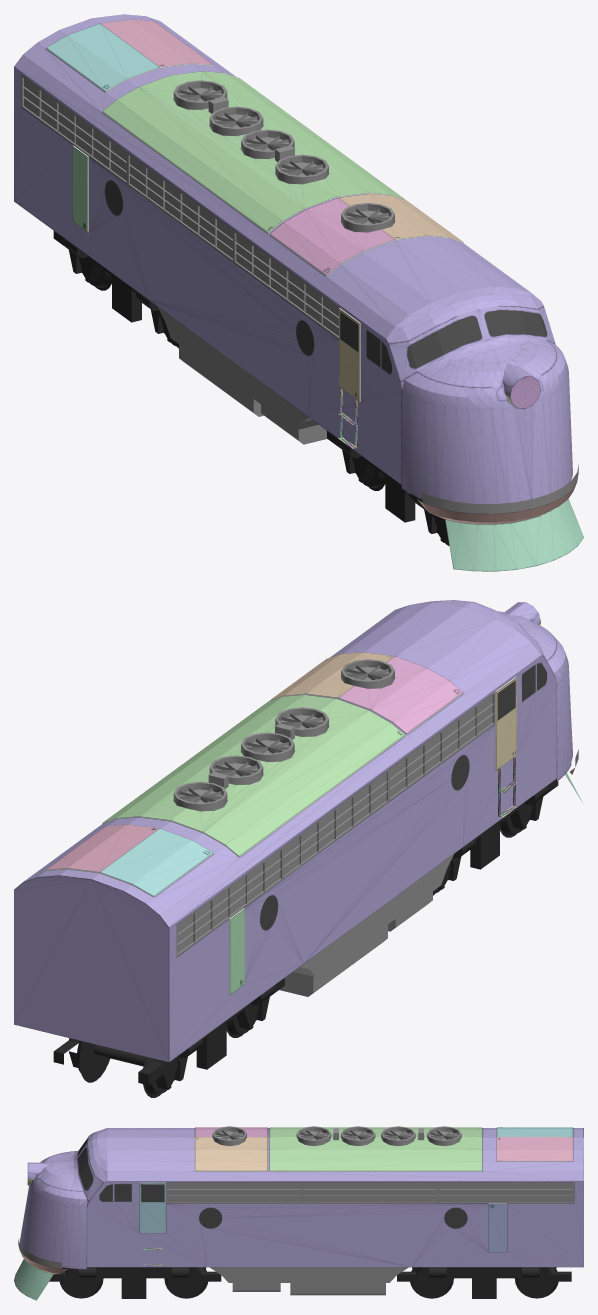
3 renders of one model, top to bottom at view 1: azimuth 30°, elevation 25°; view 2: azimuth 150°, elevation 25°; view 3: azimuth 270°, elevation 25°, orthographic. The views are drawn at different scales.
Visible parts, largest first — view 1: instance_5, instance_1, instance_4, instance_2, instance_3, instance_9, instance_7, instance_6, instance_20, instance_17, instance_10, instance_8 (+2 smaller); view 2: instance_5, instance_1, instance_2, instance_4, instance_3, instance_17, instance_6, instance_10, instance_8, instance_18, instance_19, instance_15 (+3 smaller); view 3: instance_1, instance_5, instance_2, instance_3, instance_4, instance_19, instance_18, instance_20, instance_17, instance_15 (×2), instance_14 (×2), instance_7 (+4 smaller).
Boxes of the visible parts, x1,y1,x2,y2 form: instance_5: (14,18,535,571); instance_1: (92,14,583,565); instance_4: (21,75,127,184); instance_2: (127,153,233,262); instance_3: (233,230,339,339); instance_9: (209,106,263,135); instance_7: (275,154,328,184); instance_6: (341,203,394,232); instance_20: (327,431,395,515); instance_17: (53,231,121,314); instance_10: (173,80,227,109); instance_8: (241,129,294,158); instance_5: (91,602,582,1062); instance_1: (14,600,525,1043); instance_2: (282,769,388,879); instance_4: (176,847,282,956); instance_3: (389,692,494,801); instance_17: (138,1028,216,1089); instance_6: (341,659,394,688); instance_10: (173,781,227,811); instance_8: (241,732,294,761); instance_18: (217,978,284,1062); instance_19: (490,779,558,861); instance_15: (76,1041,126,1082); instance_1: (14,1130,583,1300); instance_5: (14,1127,583,1279); instance_2: (302,1182,438,1203); instance_3: (166,1182,302,1203); instance_4: (438,1182,574,1203); instance_19: (484,1267,571,1298); instance_18: (134,1267,221,1298); instance_20: (397,1267,484,1298); instance_17: (49,1267,133,1298); instance_15 (×2): (410,1267,558,1298); instance_14 (×2): (59,1267,207,1298); instance_7: (296,1126,331,1145).
Size of the model in its own units: 3.2 by 4.55 by 14.87.
Materials: 32 (28 with a texture image).
